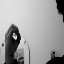o: (4, 23, 22, 50)
